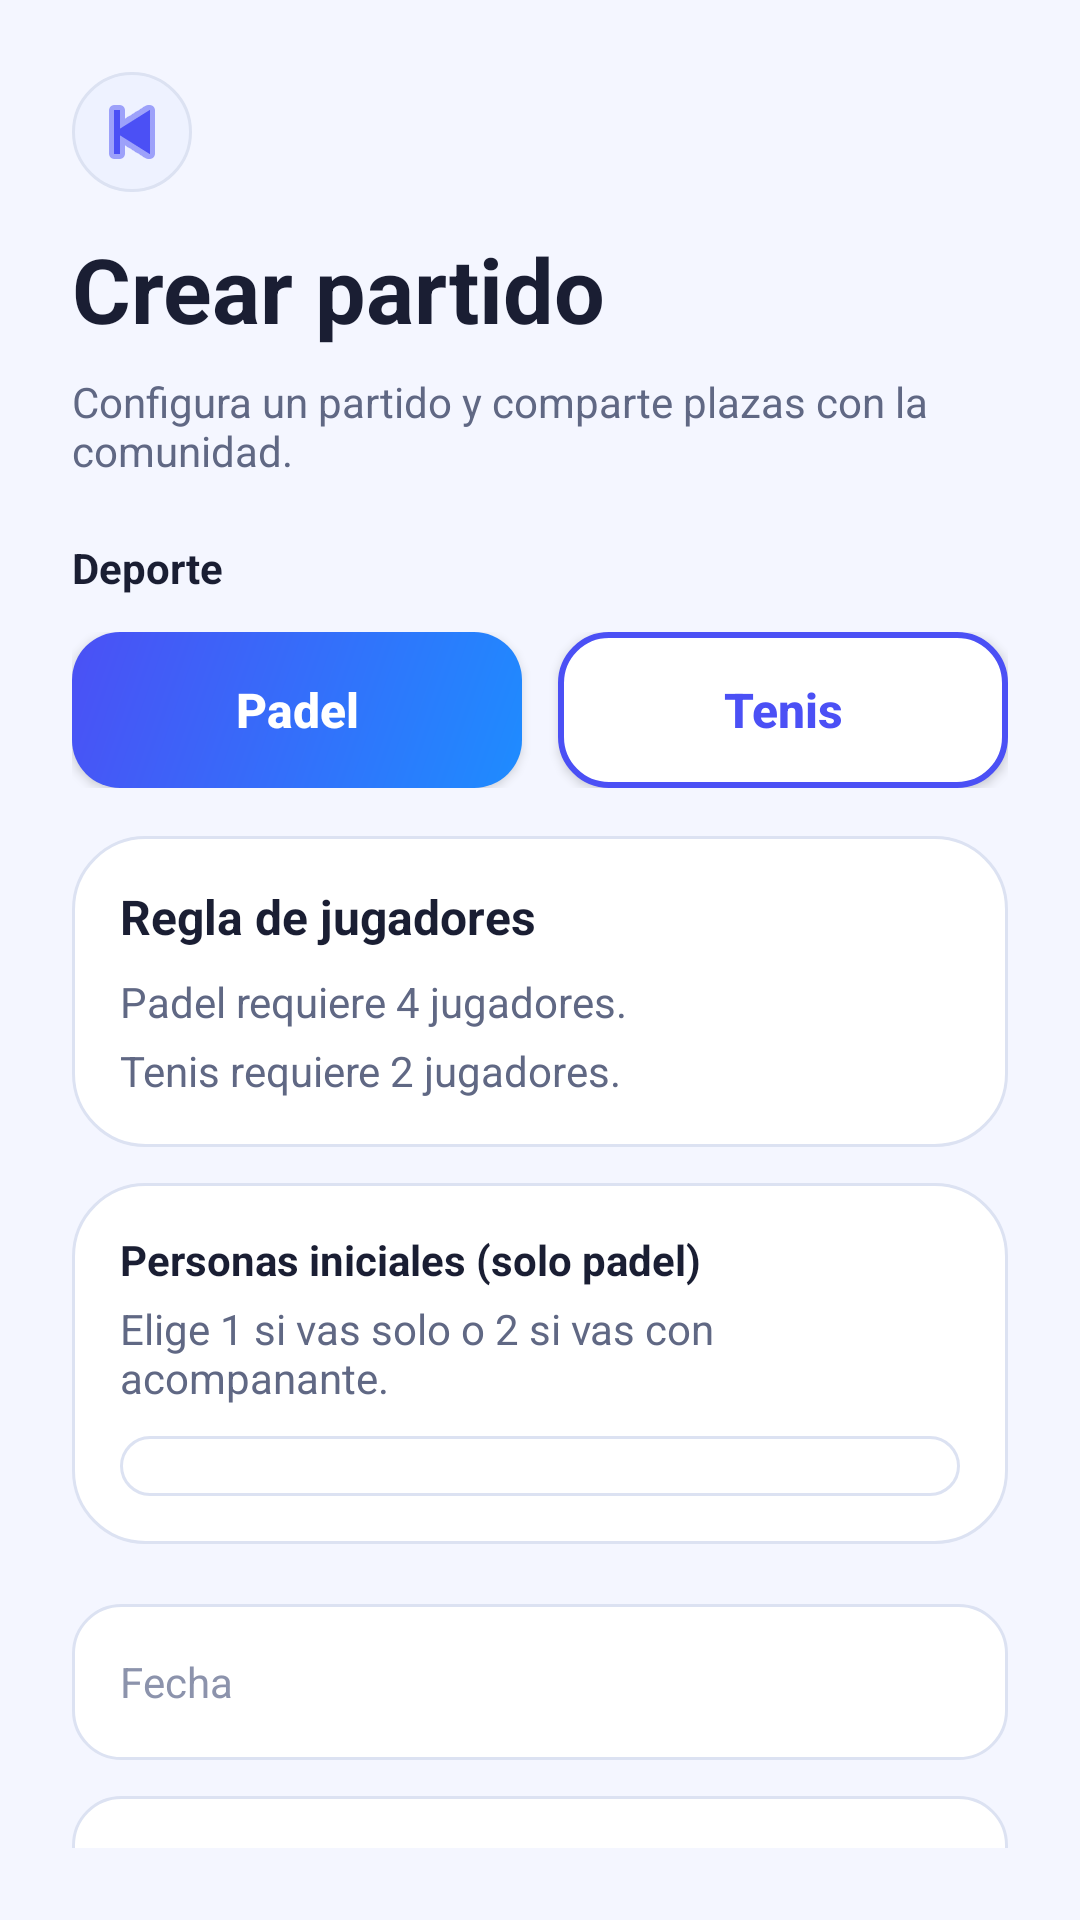

Named icons in this screenshot (1080x1920) and their centers, (x,y):
Volver: (132,132)
